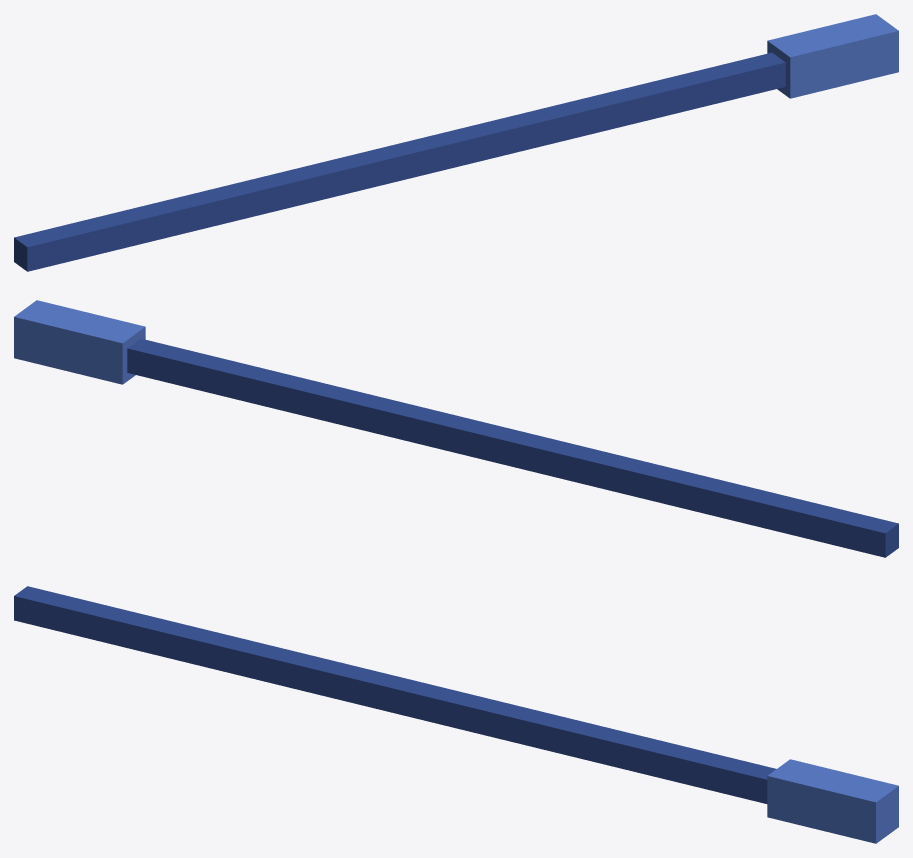
Rendered from Cable_D_1_2.fbx.
3 views of the same model, one above another, from view 1: azimuth 30°, elevation 25°; view 2: azimuth 150°, elevation 25°; view 3: azimuth 330°, elevation 25° (orthographic).
Parts seen in each view (by area): view 1: Cable_D_1_2; view 2: Cable_D_1_2; view 3: Cable_D_1_2.
Boxes of the visible parts, x1,y1,x2,y2 form: Cable_D_1_2: (14, 14, 898, 271); Cable_D_1_2: (14, 300, 898, 557); Cable_D_1_2: (14, 586, 898, 843).
Bounding box in the file's own units: 215 × 9.83 × 9.83.
